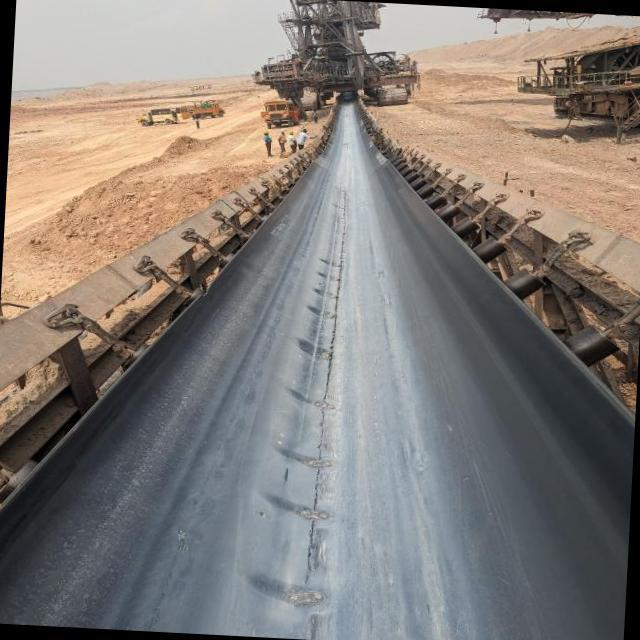Tear: (301, 190, 353, 586)
